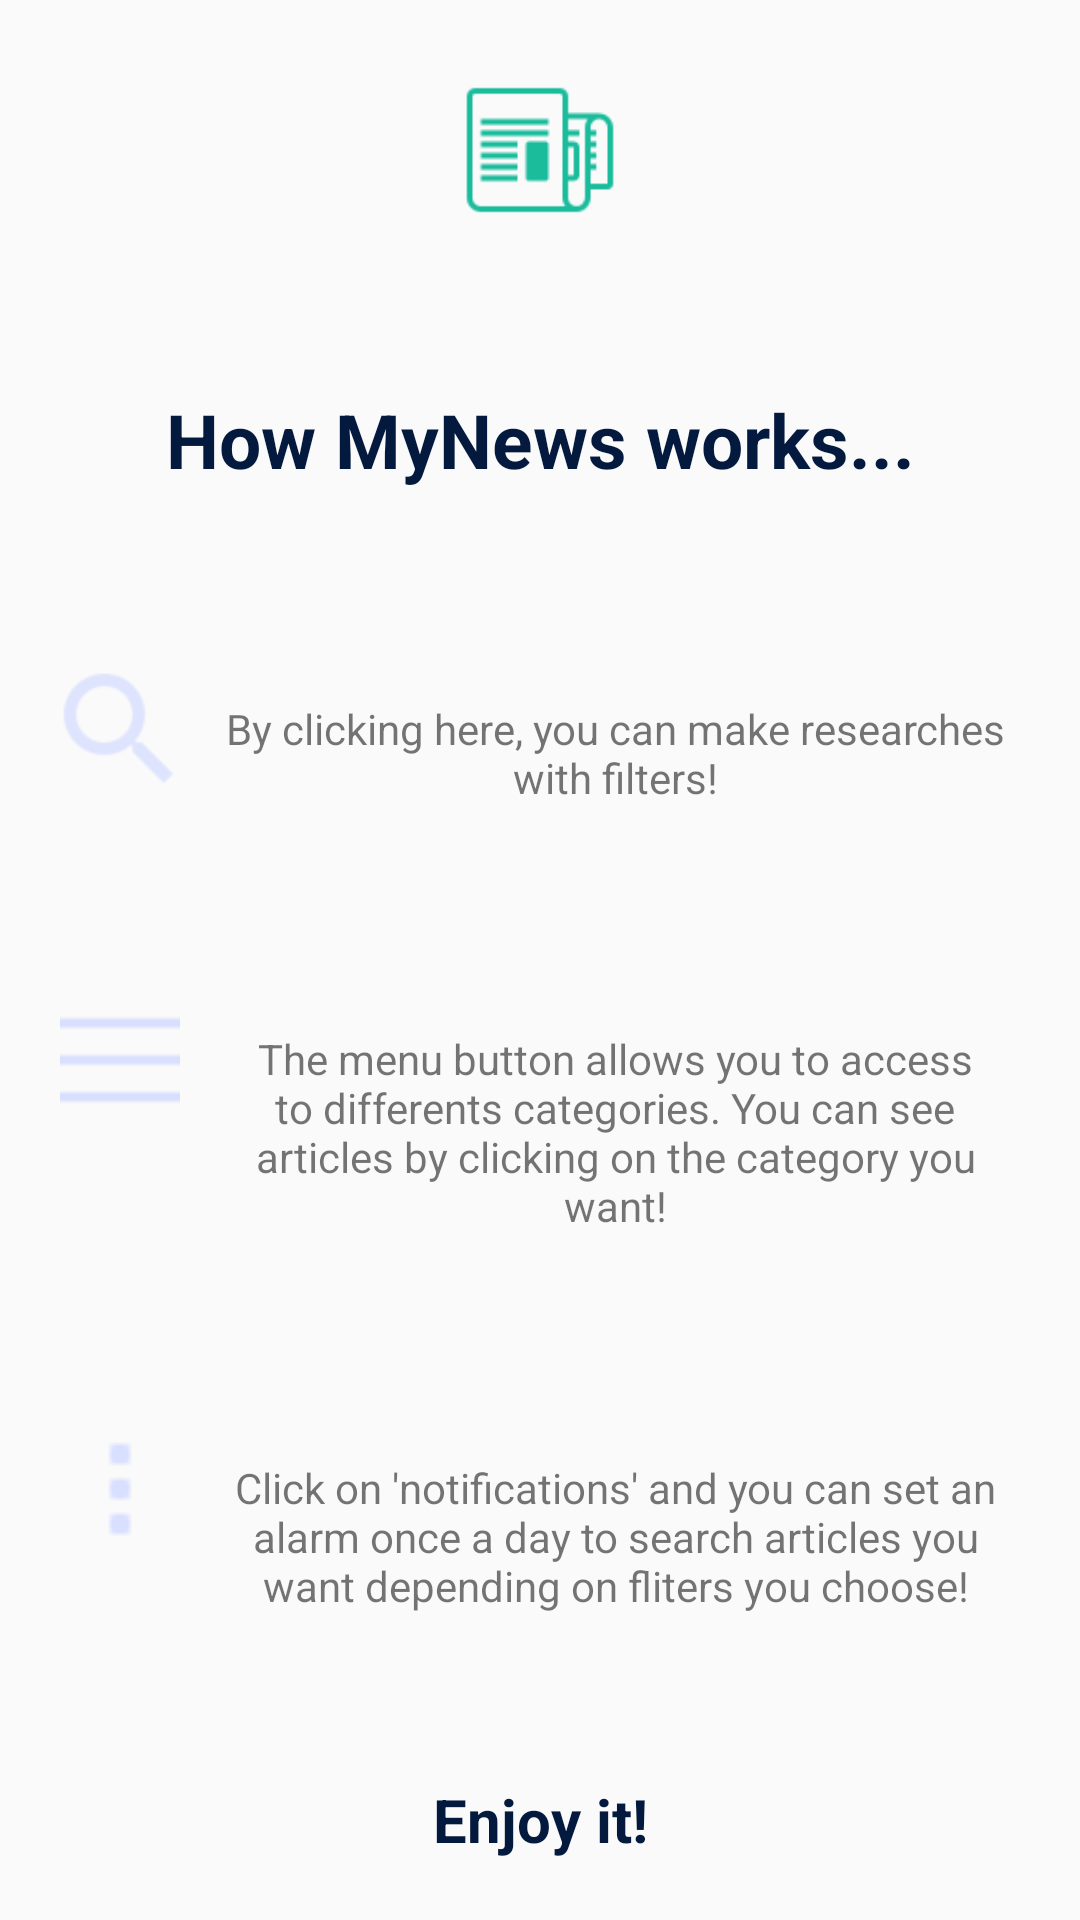

Named icons in this screenshot (1080px×1920px) and their bounding boxes, (x1, y1, x2, y2):
hamburger menu: (60, 1019, 180, 1101)
newspaper: (466, 87, 614, 213)
